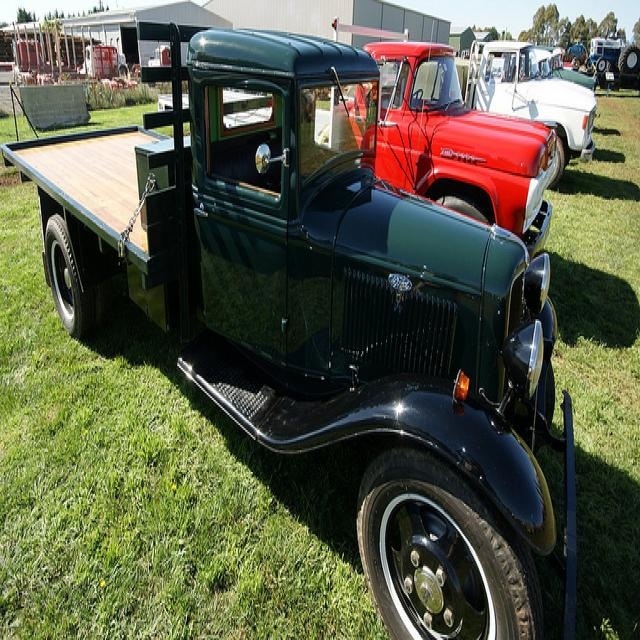Vehicle: (2, 23, 560, 631), (314, 41, 559, 262), (461, 40, 603, 178), (538, 45, 596, 89)
